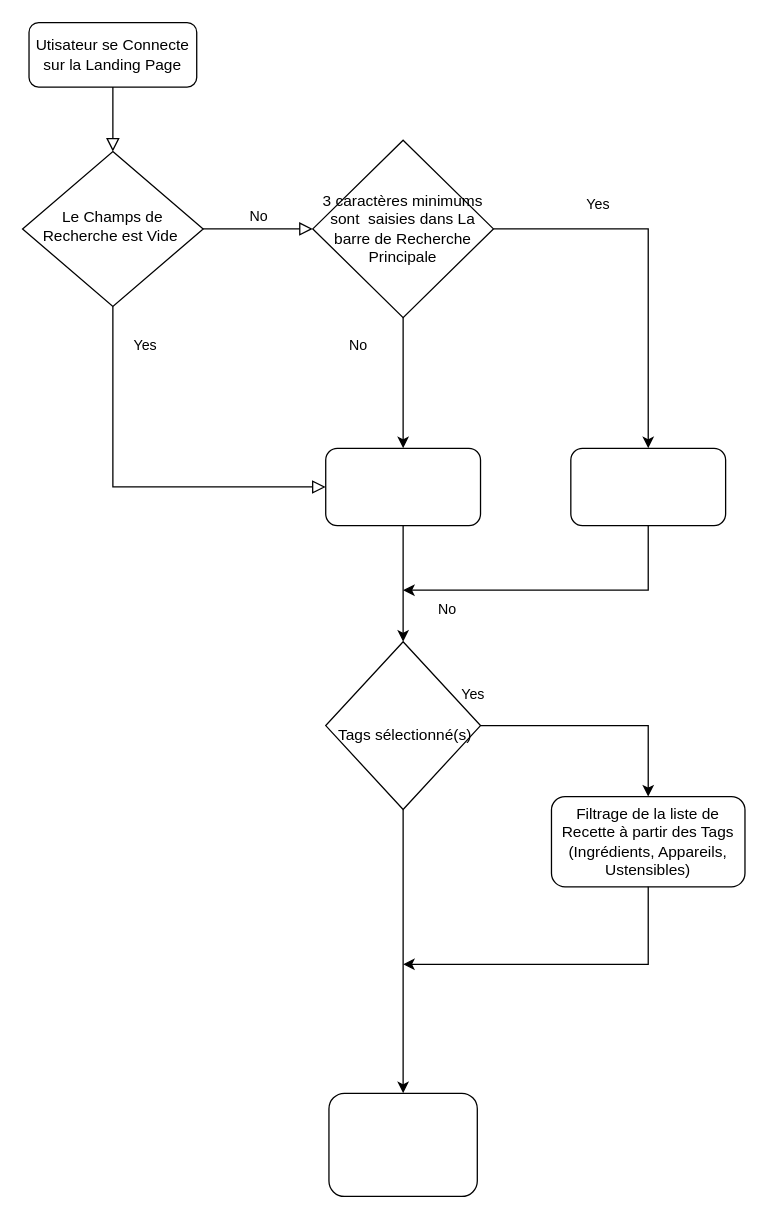
This 768x1219 diagram has some shape labels left out. Here are the shapes that lost their labels. From the top down, the box of each, then its label:
(324, 447, 481, 526): Génération de toute la liste de Recette
(570, 447, 726, 526): Génération de la liste de Recette à partir des Caractères saisies
(328, 1092, 477, 1196): Affichage de la Liste des recettes
